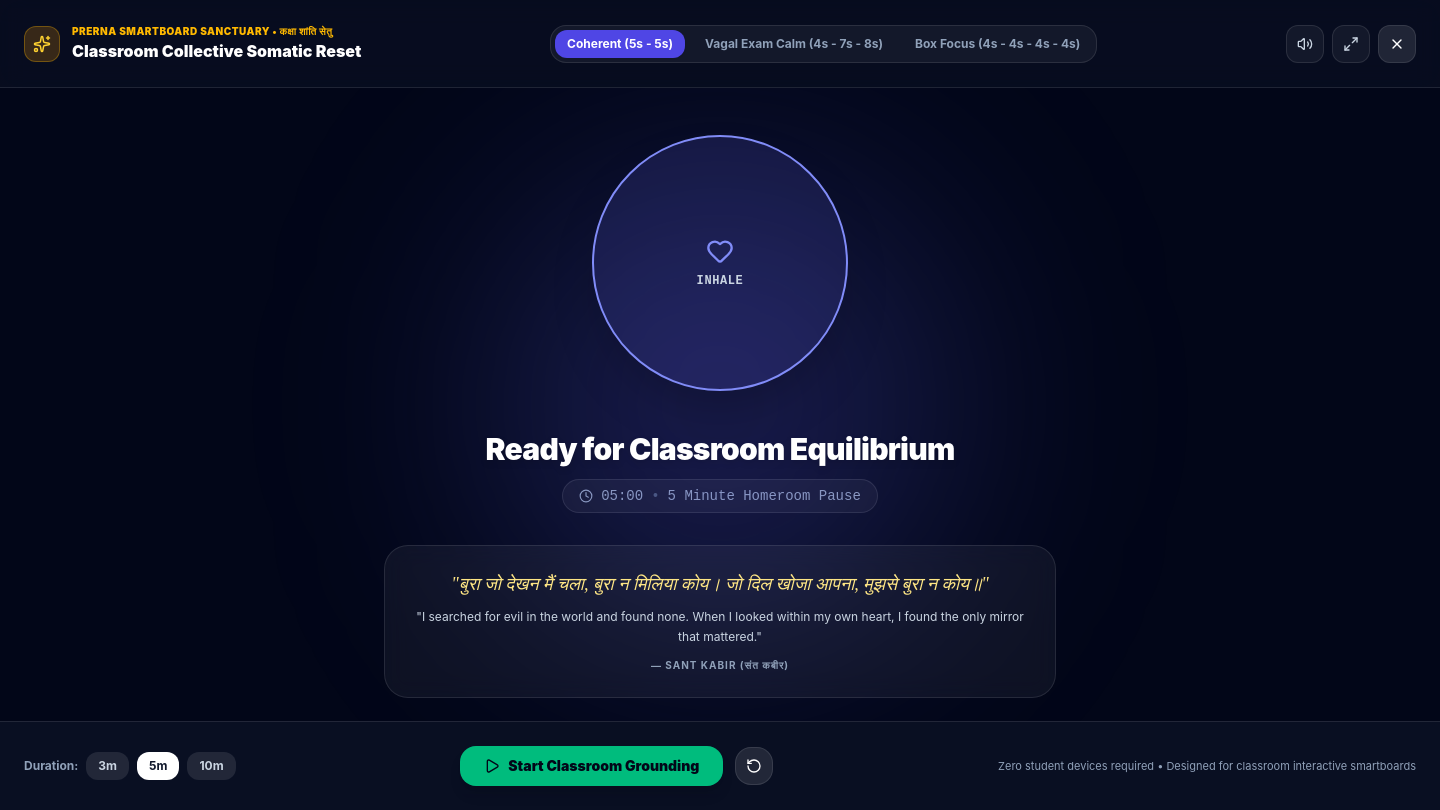
Test case: ClassroomSanctuaryModal Component › allows toggling breathing patterns between Coherent, Vagal, and Box focus
Click the button "Vagal Exam Calm (4s - 7s - 8s)". click: (794, 44)
box: top-left (693, 30), bottom-right (895, 58)
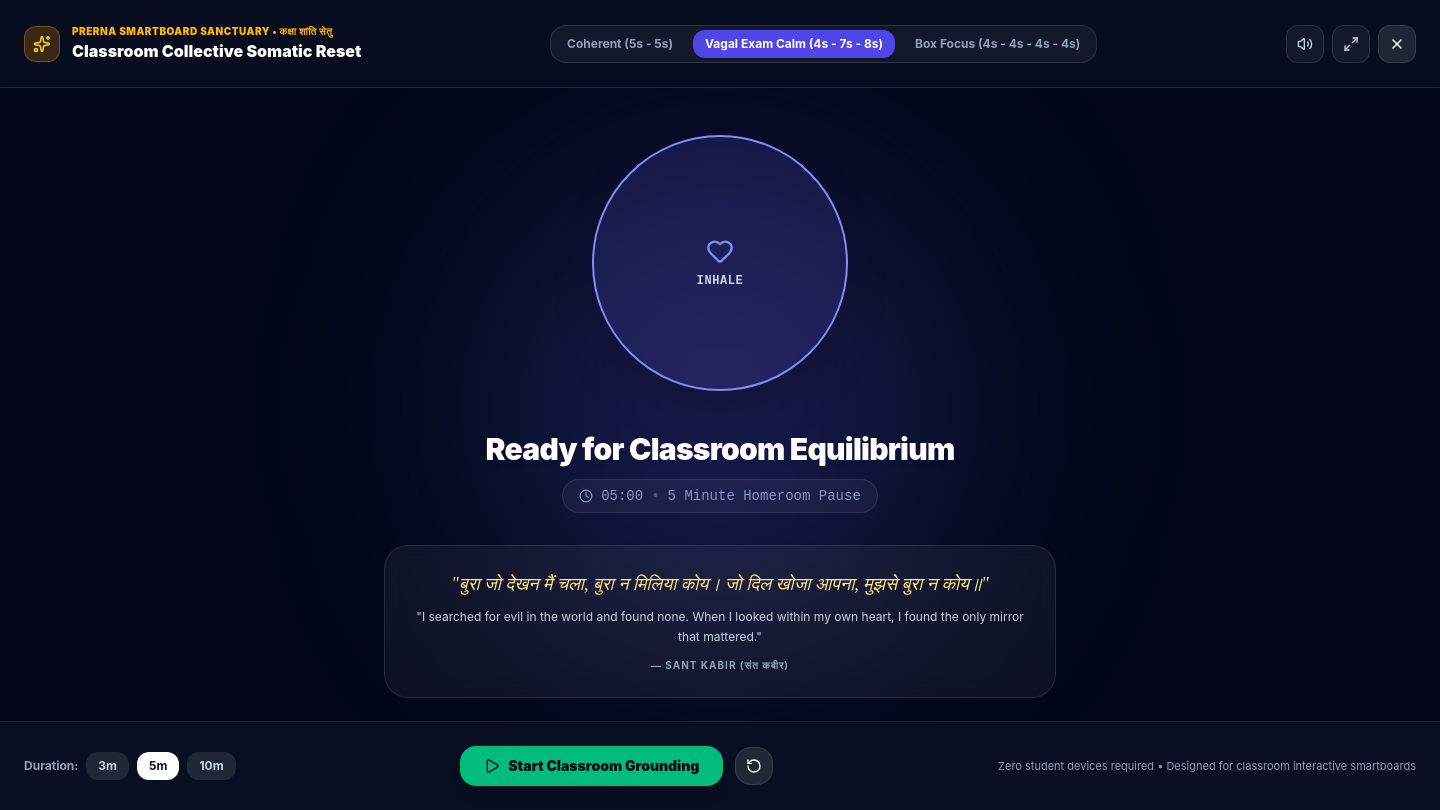
Check: the button "Vagal Exam Calm (4s - 7s - 8s)" has class "bg-indigo-600", box top-left (693, 30), bottom-right (895, 58)
Click the button "Box Focus (4s - 4s - 4s - 4s)". click: (998, 44)
box: top-left (903, 30), bottom-right (1092, 58)
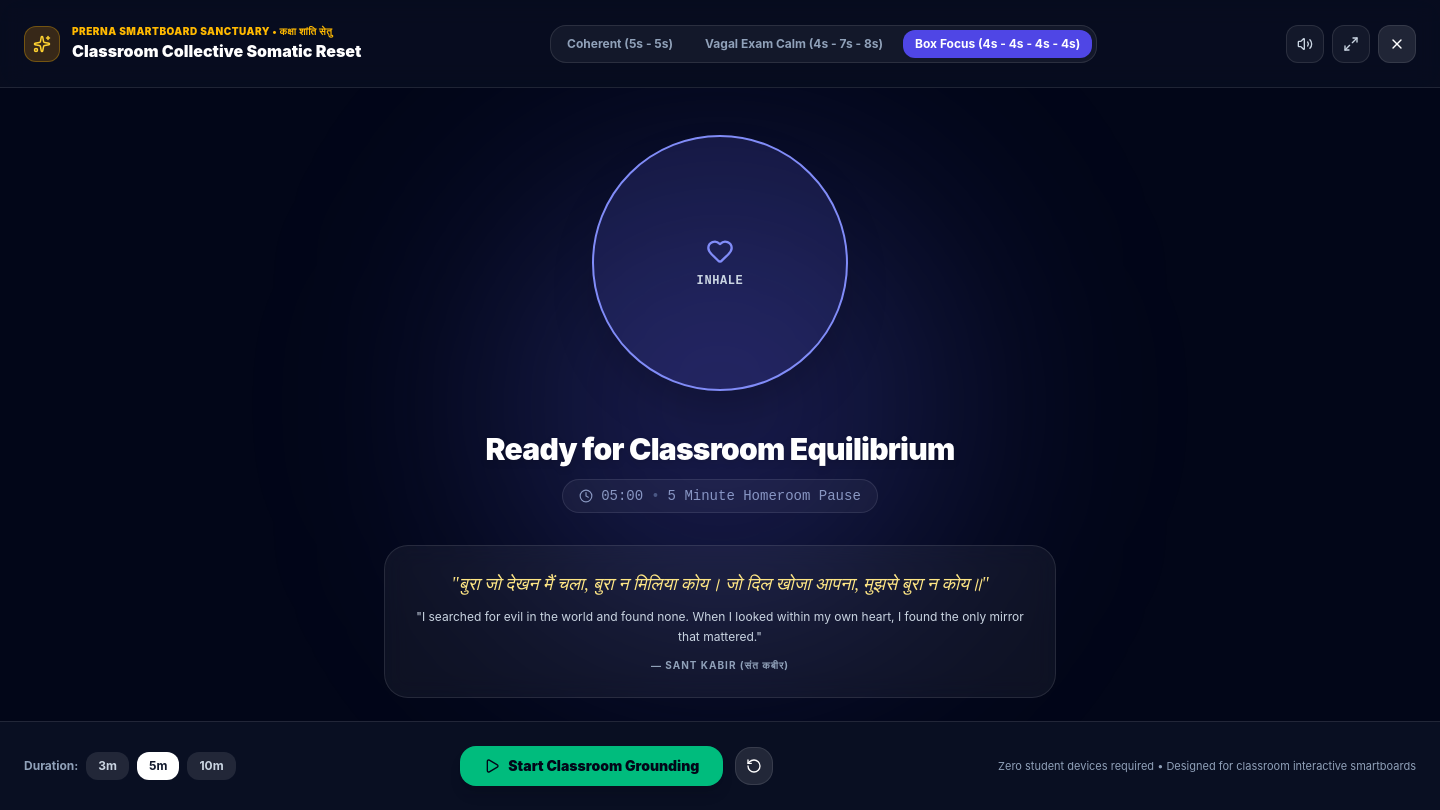
Check: the button "Box Focus (4s - 4s - 4s - 4s)" has class "bg-indigo-600", box top-left (903, 30), bottom-right (1092, 58)
